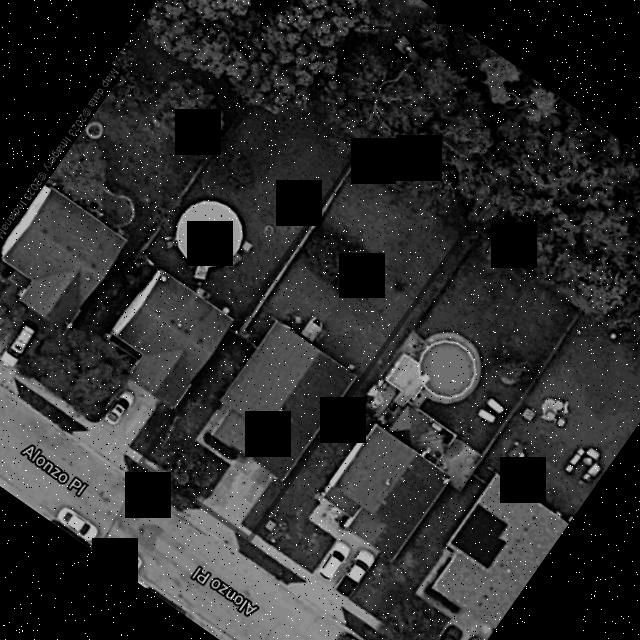Driveway: (202, 451, 274, 529)
Extra Driveway: (176, 508, 236, 553)
Extra Lawn: (128, 463, 196, 511), (235, 534, 249, 553)
House: (213, 320, 354, 478)
Other: (299, 317, 321, 341)
Sidewalk: (141, 455, 205, 503), (192, 406, 231, 464), (237, 524, 250, 535)
